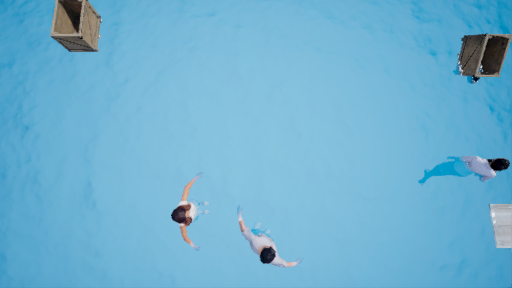person: (232, 206, 299, 271), (166, 172, 209, 252), (420, 154, 512, 190)
